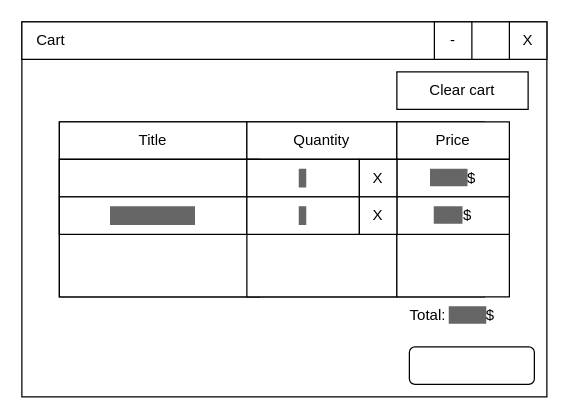
Some shapes in this 569 by 419 pixel diagram are drawn without their labels. The centre of each missing label's shape, as x and y in pixels:
"Finalize" goes at [471,365].
"The Great Gatsby" goes at [152,177].
